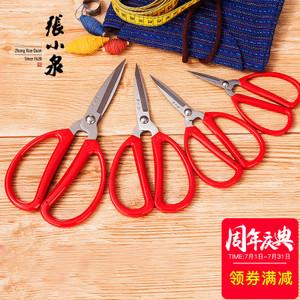scissor: (3, 57, 128, 228), (147, 69, 267, 189), (107, 61, 197, 218), (185, 68, 300, 136)
